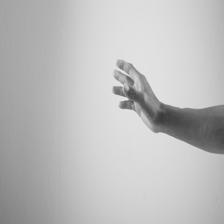Ladder: (41, 18, 168, 199)
